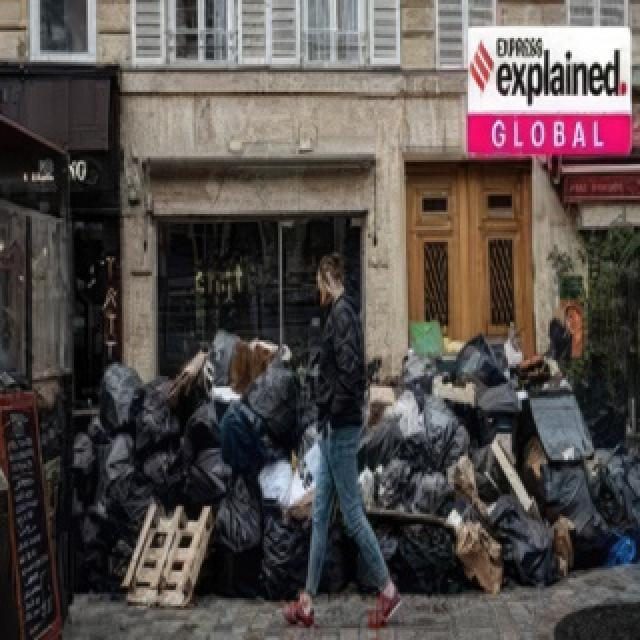Trashbag: (357, 398, 465, 467), (210, 493, 260, 592), (246, 366, 309, 444), (492, 506, 552, 584), (254, 522, 311, 599), (105, 441, 156, 522), (73, 504, 116, 586), (99, 367, 148, 425), (185, 445, 232, 504), (146, 452, 194, 506), (141, 388, 183, 446), (184, 407, 223, 448)
